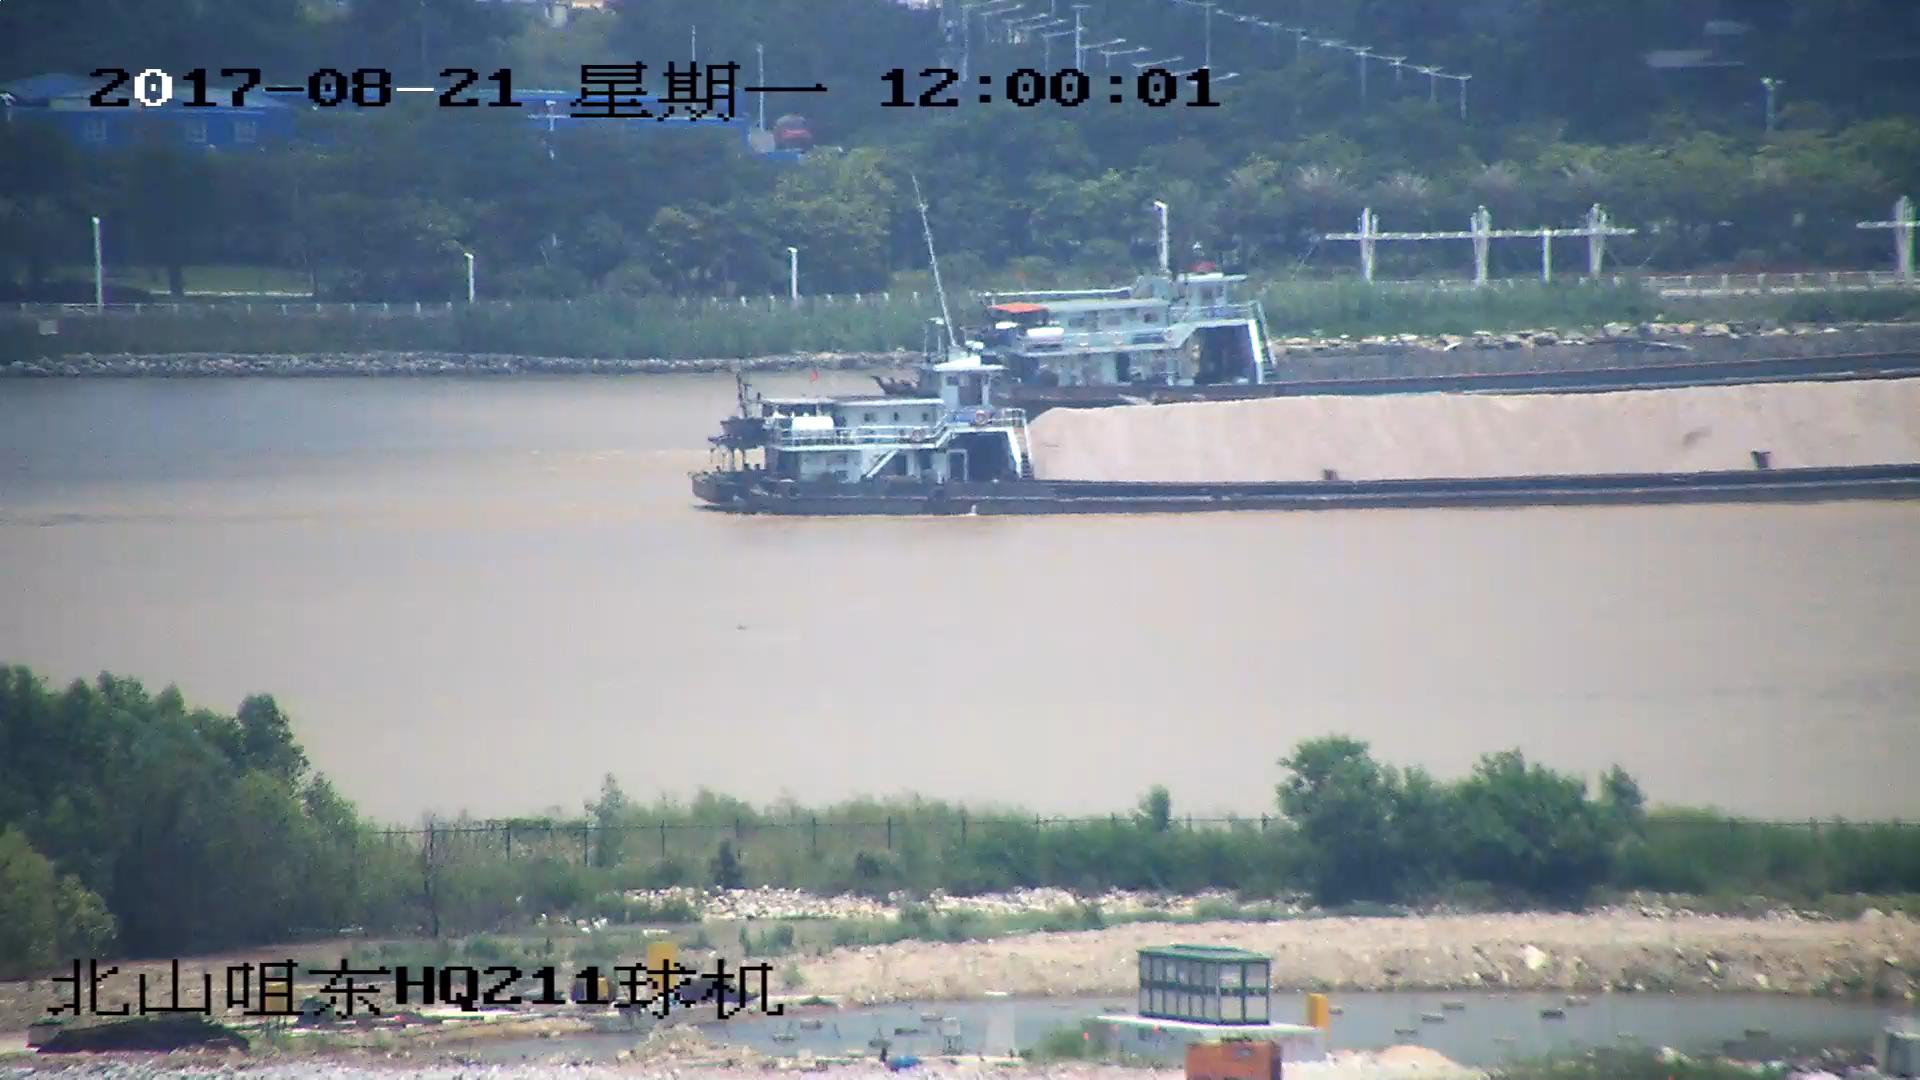bulk cargo carrier: (935, 282, 1920, 395)
ore carrier: (690, 367, 1919, 511)
